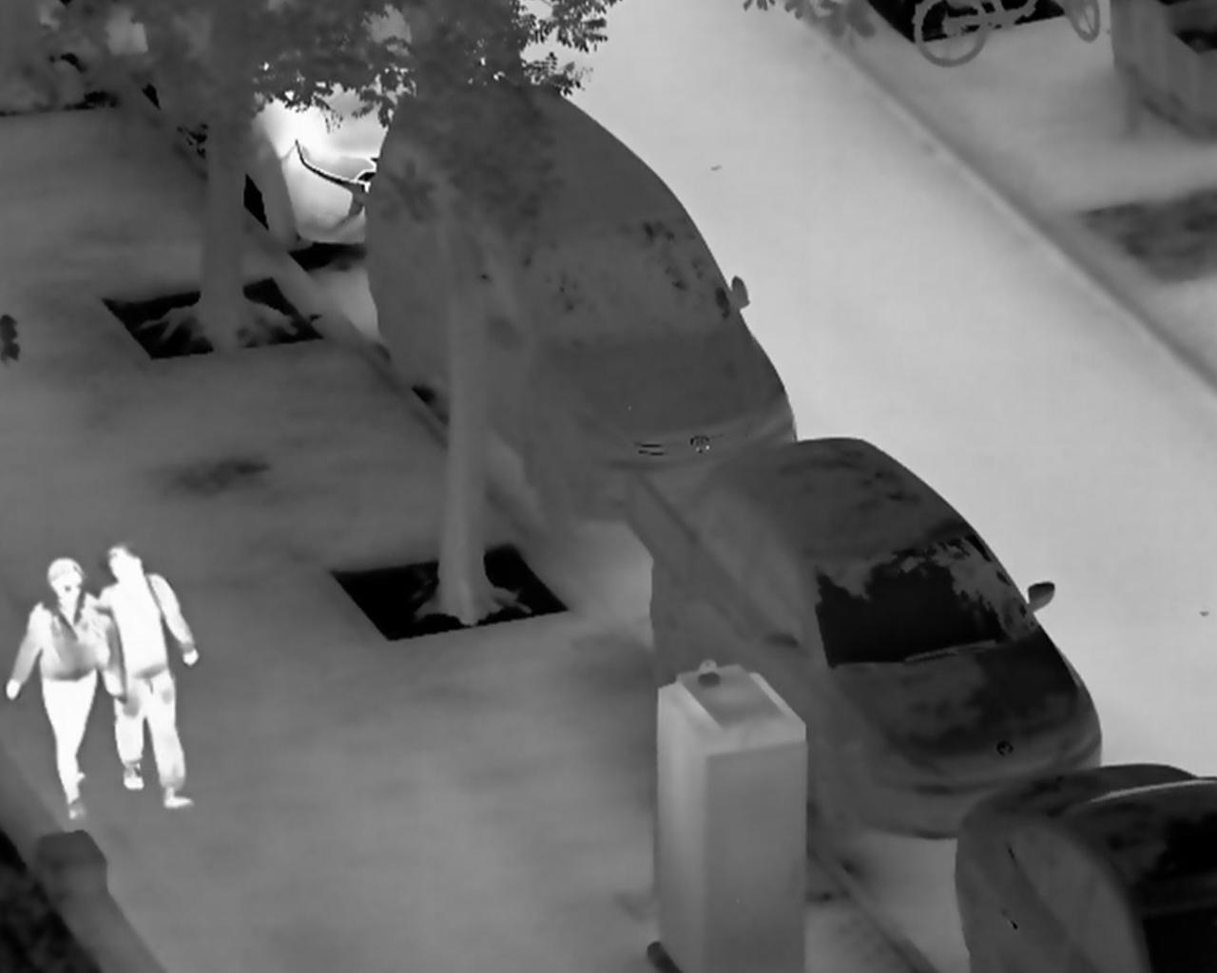person: (91, 543, 203, 812), (8, 558, 108, 818)
